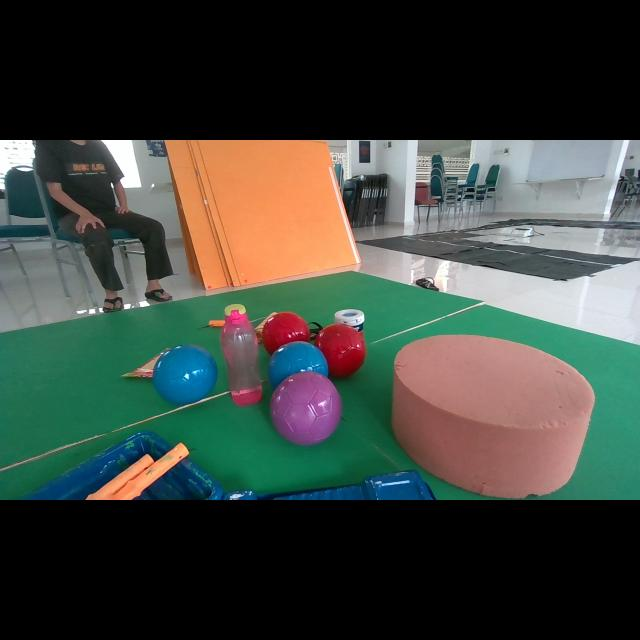B: (152, 345, 218, 405), (268, 341, 329, 389)
P: (270, 371, 342, 445)
R: (315, 324, 366, 378), (262, 311, 310, 355)
